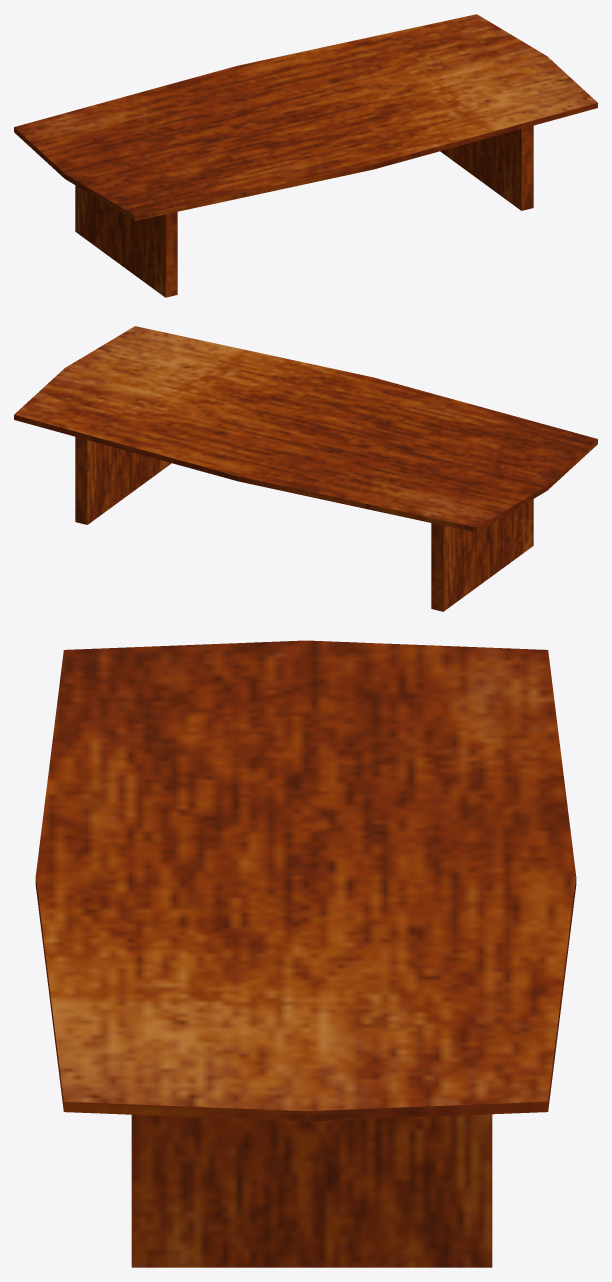
File: conference_desk_squared.fbx
3 views of the same model, one above another, from view 1: azimuth 30°, elevation 25°; view 2: azimuth 150°, elevation 25°; view 3: azimuth 270°, elevation 25° (orthographic). The views are drawn at different scales.
Visible parts, largest first — view 1: conference_desk_squared; view 2: conference_desk_squared; view 3: conference_desk_squared.
Boxes of the visible parts, bbox=[...] form: conference_desk_squared: bbox=[14, 14, 597, 297]; conference_desk_squared: bbox=[14, 326, 597, 611]; conference_desk_squared: bbox=[35, 640, 576, 1267].
Bounding box in the file's own units: 419 × 87.97 × 203.
